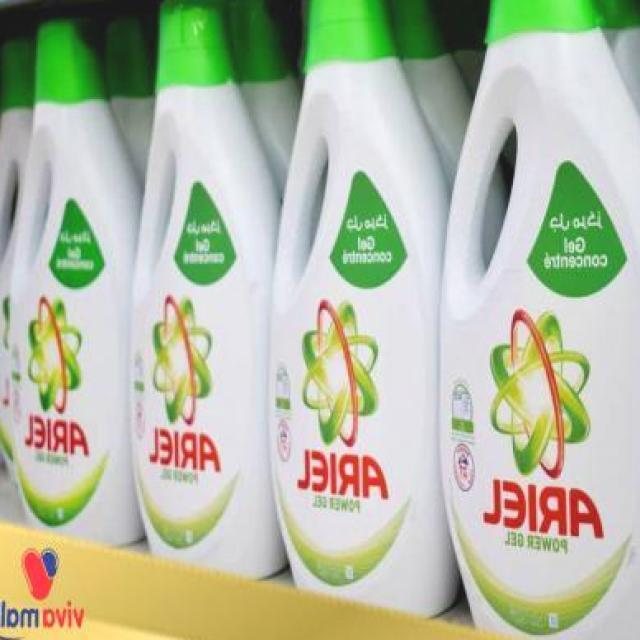Detergent: (246, 0, 458, 609), (447, 0, 640, 640), (130, 0, 268, 576), (2, 19, 132, 540)
